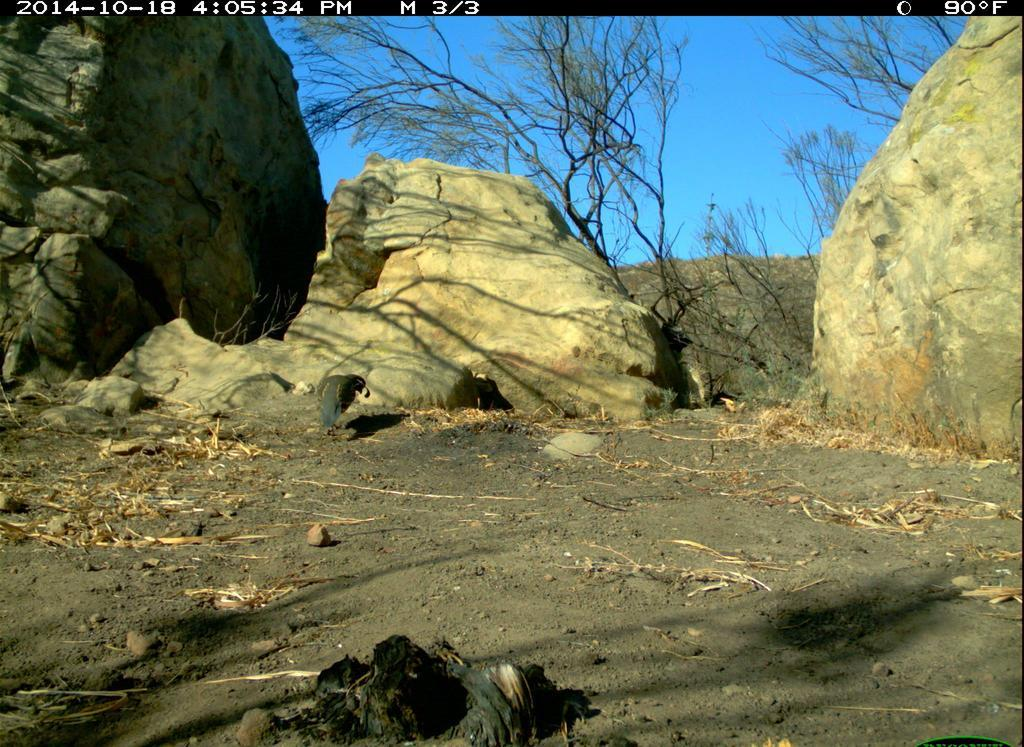bird: (306, 363, 381, 441)
